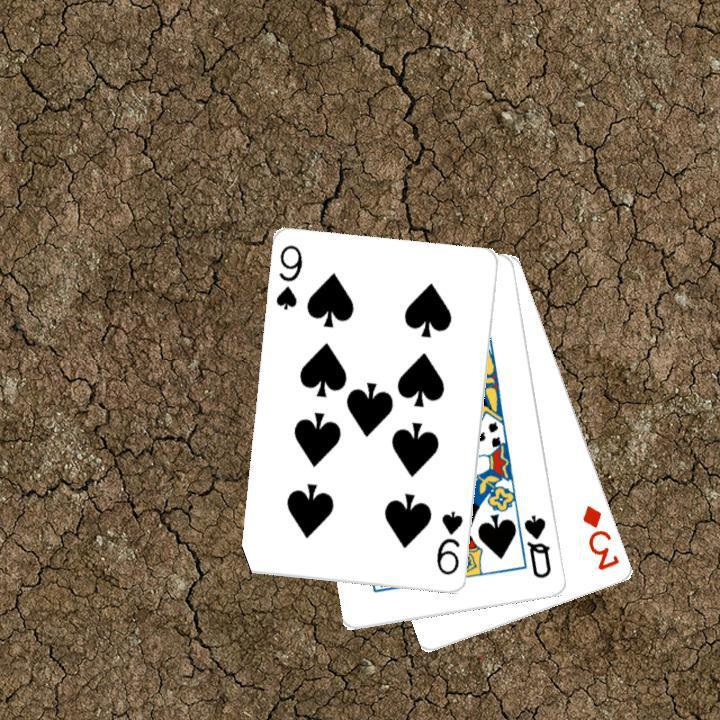3: (578, 501, 622, 573)
9: (432, 507, 465, 578), (272, 241, 305, 312)
Q: (520, 511, 554, 581)
